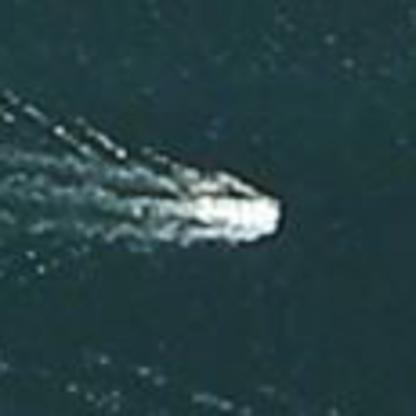ship: (163, 180, 288, 244)
